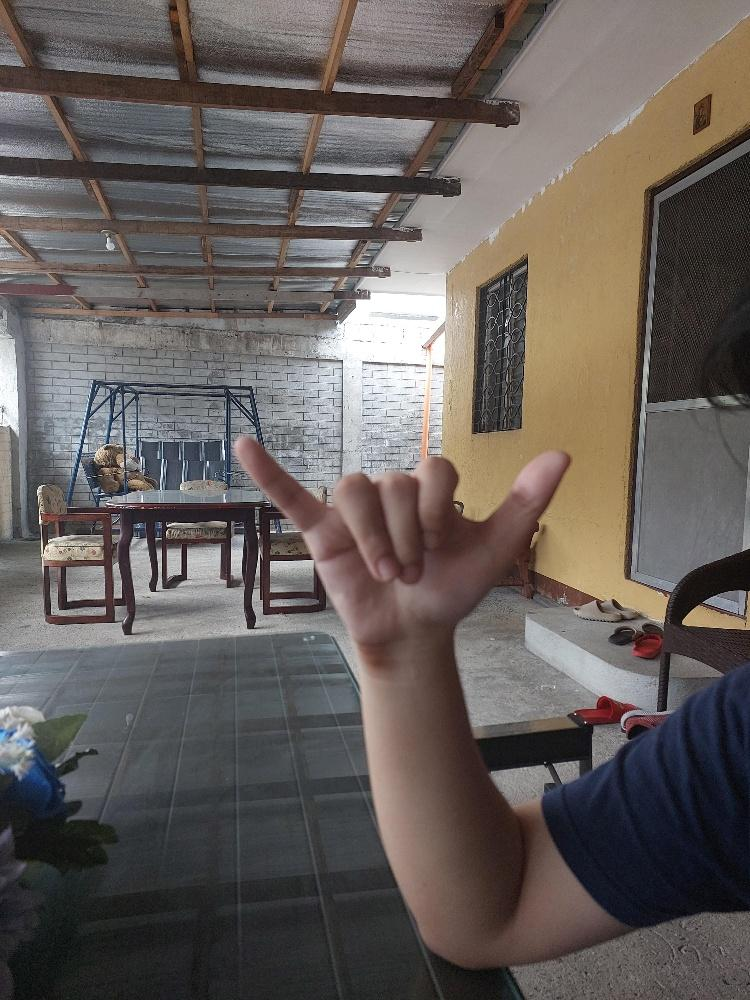y: (230, 429, 573, 645)
